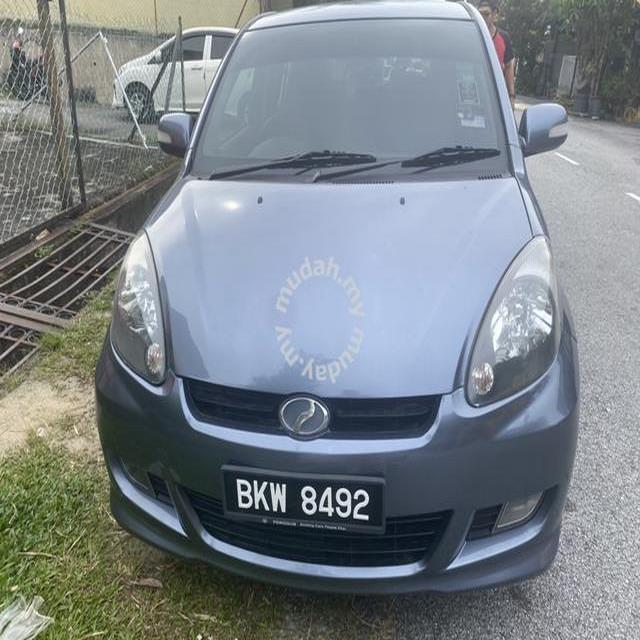License_Plate: (220, 463, 396, 537)
car: (89, 1, 597, 603)
